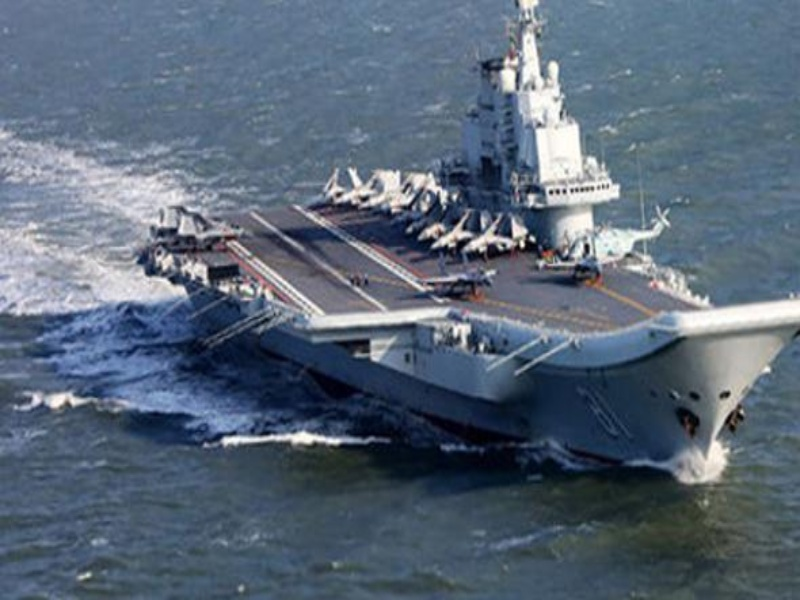carrier: (182, 77, 774, 471)
